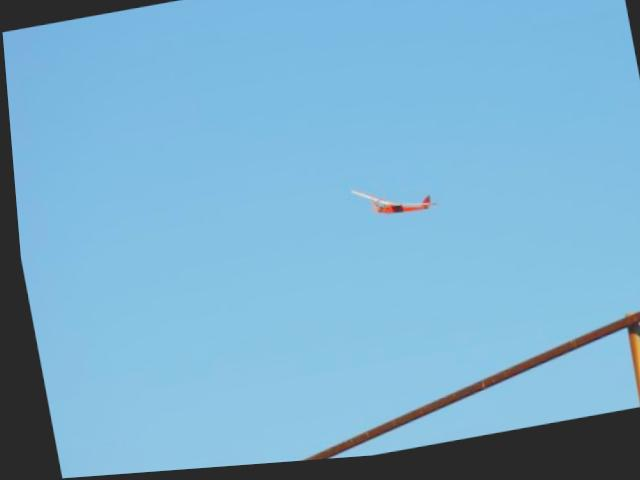iha: (350, 184, 437, 232)
